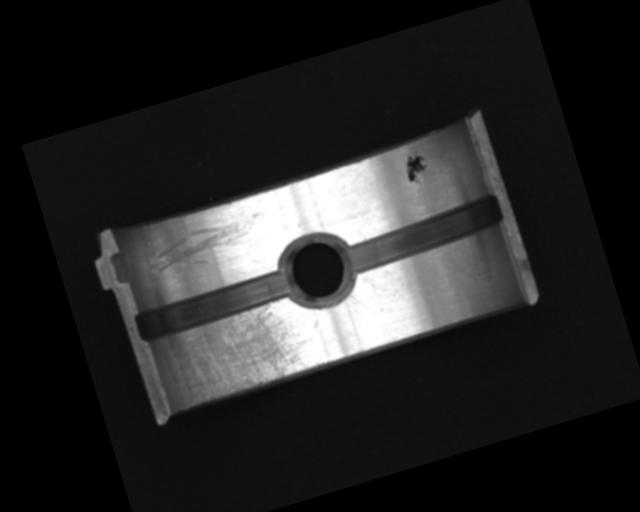blot: (401, 149, 433, 186)
gap: (337, 189, 511, 277), (131, 265, 295, 344)
hole: (273, 230, 361, 313)
nick: (147, 207, 272, 279), (346, 285, 378, 322)
scratch: (157, 292, 325, 411)
